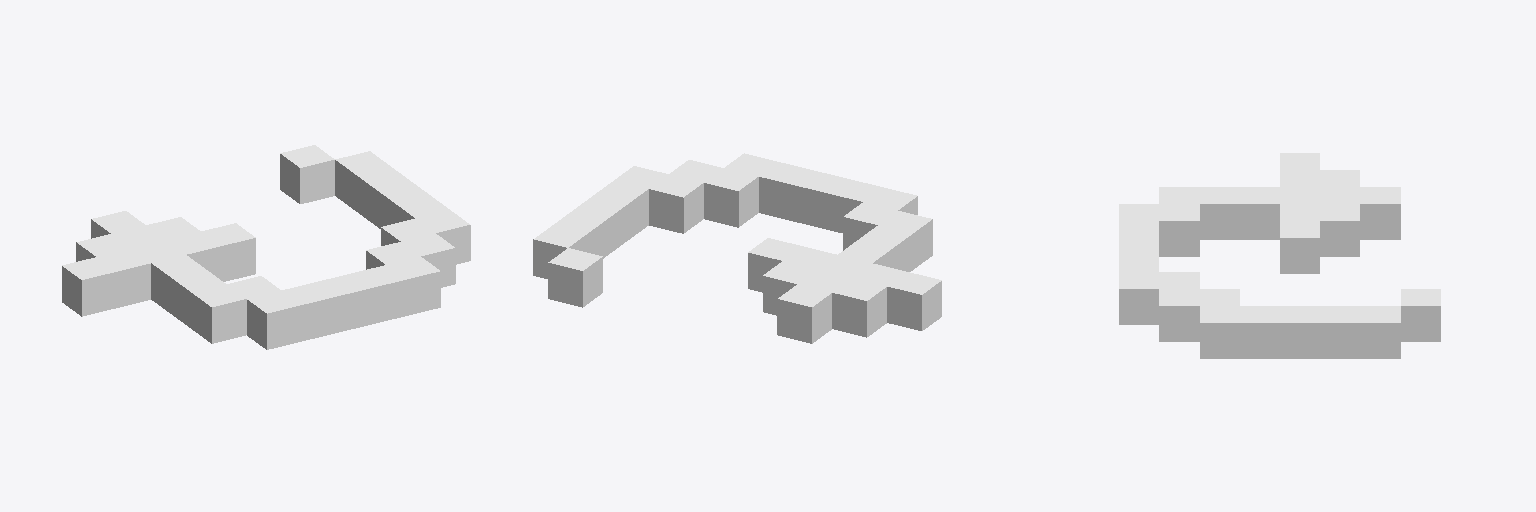
Rendered from CircularZ.obj.
3 renders of one model, left to right at view 1: azimuth 30°, elevation 25°; view 2: azimuth 150°, elevation 25°; view 3: azimuth 270°, elevation 25°, orthographic.
Parts seen in each view (by area): view 1: object 1; view 2: object 1; view 3: object 1.
Part boxes in pixels (bbox=[...]): object 1: bbox=[62, 145, 470, 349]; object 1: bbox=[533, 153, 941, 343]; object 1: bbox=[1119, 153, 1440, 358].
Bounding box in the file's own units: 1 × 0.1 × 0.8.